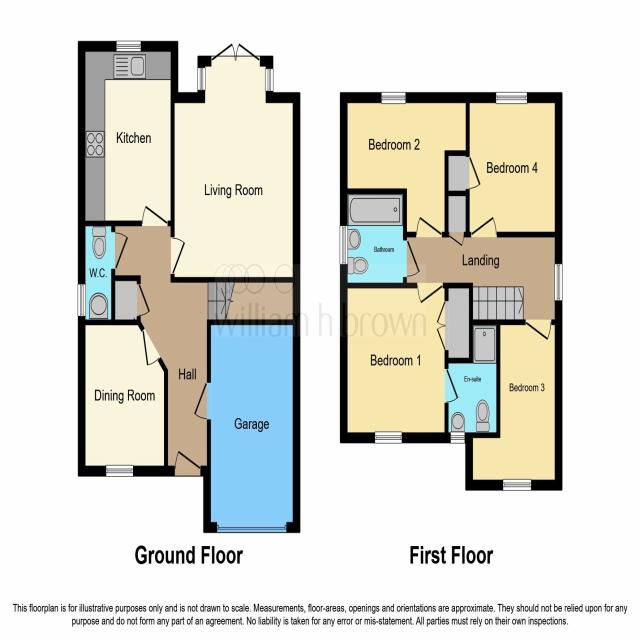DOOR: (142, 327, 161, 367), (174, 449, 201, 477), (111, 230, 129, 271), (403, 239, 421, 278), (524, 319, 552, 342), (470, 215, 498, 238), (170, 236, 186, 275), (415, 215, 442, 238), (416, 282, 444, 304), (141, 205, 168, 226), (444, 368, 459, 404)
DOUBLE DOOR: (211, 43, 260, 67)
ROOM: (170, 42, 301, 283), (340, 282, 459, 444), (340, 92, 470, 238), (77, 40, 178, 227), (465, 319, 563, 491), (465, 91, 563, 238), (77, 319, 168, 477)
WINDOW: (553, 261, 564, 303), (495, 91, 528, 105), (502, 478, 532, 492), (374, 431, 403, 444), (105, 464, 134, 477), (380, 91, 406, 105), (339, 225, 348, 265), (77, 283, 87, 318), (116, 40, 142, 52), (197, 67, 206, 91), (265, 68, 274, 92), (450, 431, 465, 444)
